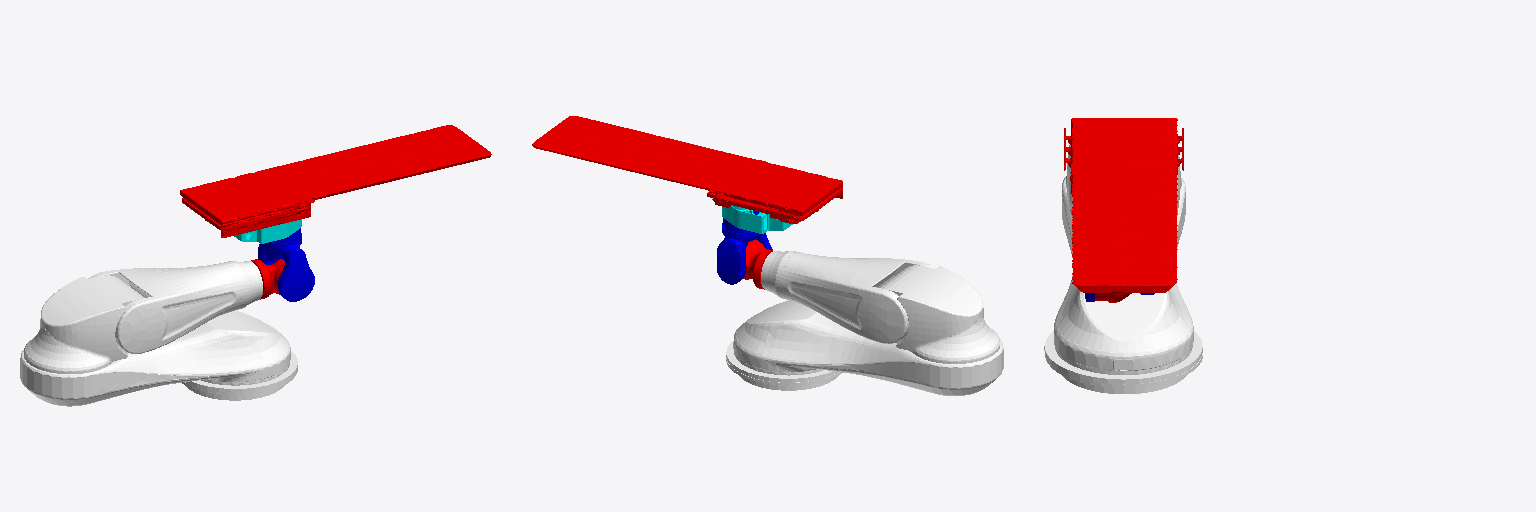
robot.urdf — test_robot:
<robot name="test_robot" xmlns:xacro="http://ros.org/wiki/xacro">

	<link name = "isocenter">
	<inertial>
      <origin rpy="0 0 0" xyz="0 0 0"/>
      <mass value="0.0"/>
      <inertia ixx="1" ixy="0" ixz="0" iyy="1" iyz="0" izz="1"/>
    </inertial>
    <visual>
      <origin rpy="0 0 0" xyz="0 0 0"/>
      <geometry>
		<box size="0.001 0.001 0.001"/>
	</geometry>
		<material name="red">
        <color rgba="1 0 0 1"/>
      </material>
    </visual>
    <!--<collision>
      <origin rpy="0 0 0" xyz="0 0 0"/>
      <geometry>
         <box size="0.001 0.001 0.001"/>
      </geometry>
    </collision>-->
  </link>

	<link name="base">
    <contact>
      <lateral_friction value="1.0"/>
      <rolling_friction value="0.0"/>
      <contact_cfm value="1.0"/>
      <contact_erp value="1.0"/>
    </contact>
    <inertial>
      <origin rpy="0 0 0"  xyz="0.000000 0 0"/>
      <mass value="292.0"/>
      <inertia ixx="1" ixy="0" ixz="0" iyy="1" iyz="0" izz="1"/>
    </inertial>
    <visual>
      <origin rpy="1.5708 0 0"  xyz="0 0 0"/>
      <geometry>
        <mesh filename="pps_leoni/pied.obj" scale="0.01 0.01 0.01"/>
      </geometry>
      <material name="white">
        <color rgba="1 1 1 1"/>
      </material>
    </visual>
	    <collision>
      <origin rpy="1.5708 0 0"  xyz="0.000000 0 0"/>
      <geometry>
         <mesh filename="pps_leoni/pied.obj" scale="0.01 0.01 0.01"/>
      </geometry>
    </collision>
  </link>

	<link name="A1">
    <contact>
		<lateral_friction value="1.0"/>
		<rolling_friction value = "101"/>
		<contact_cfm value="0.0"/>
		<contact_erp value="1.0"/>
		<kd value ="1.0"/>
	</contact>
    <inertial>
      <origin rpy="0 0 0" xyz="-0.55 0 0.3"/>
      <mass value="180"/>
      <inertia ixx="1" ixy="0" ixz="0" iyy="1" iyz="0" izz="1"/>
    </inertial>
    <visual>
      <origin rpy=" 1.5708 0 0" xyz="0 0 0"/>
      <geometry>
        <mesh filename="pps_leoni/bras1.obj" scale="0.01 0.01 0.01"/>
      </geometry>
      <material name="white">
        <color rgba="1 1 1 1"/>
      </material>
    </visual>
    <collision>
      <origin rpy="1.5708 0 0" xyz="0 0 0"/>
      <geometry>
         <mesh filename="pps_leoni/bras1.obj" scale="0.01 0.01 0.01"/>
      </geometry>
    </collision>
  </link>
	<link name="A2">
    <contact>
      <lateral_friction value="1.0"/>
      <rolling_friction value="0.0"/>
      <contact_cfm value="0.0"/>
      <contact_erp value="1.0"/>
      <kd value ="1.0"/>
    </contact>
    <inertial>
      <origin rpy="0 0 0" xyz="0.05 0 0.1935"/>
      <mass value="299"/>
      <inertia ixx="1" ixy="0" ixz="0" iyy="1" iyz="0" izz="1"/>
    </inertial>
    <visual>
     <origin rpy="1.5708 0 0" xyz="1.2 0 -0.4365"/>
      <geometry>
        <mesh filename="pps_leoni/interbras.obj" scale="0.01 0.01 0.01"/>
      </geometry>
      <material name="white">
        <color rgba="1 1 1 1"/>
      </material>
    </visual>
    <collision>
      <origin rpy="1.5708 0 0" xyz="1.2 0 -0.4365"/>
      <geometry>
         <mesh filename="pps_leoni/interbras.obj" scale="0.01 0.01 0.01"/>
      </geometry>
    </collision>
  </link>

	<link name="A3">
    <contact>
      <lateral_friction value="1.0"/>
      <rolling_friction value="0.0"/>
      <contact_cfm value="0.0"/>
      <contact_erp value="1.0"/>
      <kd value ="1.0"/>
    </contact>
    <inertial>
      <origin rpy="0 0 0" xyz="0.31129999 0 0"/>
      <mass value="193.2"/>
      <inertia ixx="1" ixy="0" ixz="0" iyy="1" iyz="0" izz="1"/>
    </inertial>
    <visual>
      <origin rpy="1.5708 0 0" xyz="0.85 0 -0.63"/>
      <geometry>
        <mesh filename="pps_leoni/BrasExtensionbras2.obj" scale="0.01 0.01 0.01"/>
      </geometry>
      <material name="white">
        <color rgba="1 1 1 1"/>
      </material>
    </visual>
    <collision>
		<origin rpy="1.5708 0 0" xyz="0.85 0 -0.63"/>
		<geometry>
			<mesh filename="pps_leoni/BrasExtensionbras2.obj" scale="0.01 0.01 0.01"/>
		</geometry>
    </collision>
  </link>

  <link name="A4">
    <contact>
      <lateral_friction value="1.0"/>
      <rolling_friction value="0.0"/>
      <contact_cfm value="0.0"/>
      <contact_erp value="1.0"/>
    </contact>
    <inertial>
      <origin rpy="0 0 0" xyz="0.1 0 0"/>
      <mass value="41.0"/>
      <inertia ixx="1" ixy="0" ixz="0" iyy="1" iyz="0" izz="1"/>
    </inertial>
    <visual>
      <origin rpy="1.57 0 0" xyz="-0.120 0 -0.63"/>
      <geometry>
        <mesh filename="pps_leoni/bras3.obj" scale="0.01 0.01 0.01"/>
      </geometry>
      <material name="red">
        <color rgba="1 0 0 1"/>
      </material>
    </visual>
    <collision>
		<origin rpy="1.57 0 0" xyz="-0.120 0 -0.63"/>
		<geometry>
			<mesh filename="pps_leoni/bras3.obj" scale="0.01 0.01 0.01"/>
		</geometry>
    </collision>
	</link>

	<link name="A5">
    <contact>
      <lateral_friction value="1.0"/>
      <rolling_friction value="0.0"/>
      <contact_cfm value="0.0"/>
      <contact_erp value="1.0"/>
    </contact>
    <inertial>
      <origin rpy="0 0 0" xyz="0 0 0.17"/>
      <mass value="41.6"/>
      <inertia ixx="1" ixy="0" ixz="0" iyy="1" iyz="0" izz="1"/>
    </inertial>
    <visual>
      <origin rpy="1.57 0 0" xyz="-0.340 0 -0.63"/>
      <geometry>
        <mesh filename="pps_leoni/bras_rot_2.obj" scale="0.01 0.01 0.01"/>
      </geometry>
      <material name="blue">
        <color rgba="0 0 1 1"/>
      </material>
    </visual>
    <collision>
		<origin rpy="1.57 0 0" xyz="-0.340 0 -0.63"/>
		<geometry>
			<mesh filename="pps_leoni/bras_rot_2.obj" scale="0.01 0.01 0.01"/>
		</geometry>
    </collision>
  </link>

	<link name="A6">
    <contact>
      <lateral_friction value="1.0"/>
      <rolling_friction value="0.0"/>
      <contact_cfm value="0.0"/>
      <contact_erp value="1.0"/>
    </contact>
    <inertial>
      <origin rpy="0 0 0" xyz="-0.17 0 0.07"/>
      <mass value="44.0"/>
      <inertia ixx="1" ixy="0" ixz="0" iyy="1" iyz="0" izz="1"/>
    </inertial>
    <visual>
      <origin rpy="1.57 0 0" xyz="-0.34 0 -0.9695"/>
      <geometry>
        <mesh filename="pps_leoni/coupler.obj" scale="0.01 0.01 0.01"/>
      </geometry>
      <material name="cyan">
        <color rgba="0 1 1 1"/>
      </material>
    </visual>
    <collision>
		<origin rpy="1.57 0 0" xyz="-0.34 0 -0.9695"/>
		<geometry>
			<mesh filename="pps_leoni/coupler.obj" scale="0.01 0.01 0.01"/>
		</geometry>
    </collision>
  </link>

 	<link name="couch">
    <contact>
      <lateral_friction value="1.0"/>
      <rolling_friction value="0.0"/>
      <contact_cfm value="0.0"/>
      <contact_erp value="1.0"/>
    </contact>
    <inertial>
      <origin rpy="0 0 0" xyz="0.6 0 1.225"/>
      <mass value="70.0"/>
      <inertia ixx="0.1" ixy="0" ixz="0" iyy="0.1" iyz="0" izz="0.1"/>
    </inertial>
    <visual>
      <origin rpy="1.5708 0 0" xyz="0 0 0"/>
      <geometry>
        <mesh filename="pps_leoni/couch.obj" scale="0.001 0.001 0.001"/>
		<!-- <box size="2 0.5 0.15"/> -->
      </geometry>
      <material name="red">
        <color rgba="1 0 0 1"/>
      </material>
    </visual>
	<collision>
		<origin rpy="1.57 0 0" xyz="0 0 0"/>
		<geometry>
			<mesh filename="pps_leoni/couch.obj" scale="0.001 0.001 0.001"/>
		</geometry>
    </collision>
  </link>

	<joint name="base" type="fixed">
	<dynamics damping="0.0" friction="0.0"/>
    <parent link="isocenter"/>
    <child link="base"/>
	<origin xyz="0.000000 -1.95 -1.10300003" rpy="0 0 0" />
	</joint>
	
	<joint name="joint0" type="continuous">
	<dynamics damping="0.0" friction="0.0"/>
    <parent link="base"/>
    <child link="A1"/>
    <origin xyz="0 0 0" rpy="0 0 0" />
    <axis xyz="0 0 1"/>
	</joint>

	<joint name="joint1" type="continuous">
	<dynamics damping="0.0" friction="0.0"/>
    <parent link="A1"/>
    <child link="A2"/>
    <origin xyz="-1.2 0 0.4365" rpy="0 0 0" />
    <axis xyz="0 0 1" />
	</joint>

	<joint name="joint2" type="continuous">
	<dynamics damping="0.0" friction="0.0"/>
    <parent link="A2"/>
    <child link="A3"/>
    <origin xyz="0.36 0 0.1935" rpy="0 0 0" />
    <axis xyz="0 -1 0" />
	</joint>

	<joint name="joint3" type="continuous">
    <parent link="A3"/>
    <child link="A4"/>
	<axis xyz="-1 0 0" />
	<origin xyz="0.980 0 0" rpy="0 0 0" />
	</joint>

	<joint name="joint4" type="continuous">
    <parent link="A4"/>
    <child link="A5"/>
	<origin xyz="0.220 0 0" rpy="0 0 0" />
	<axis xyz="0 -1 0" />
	</joint>

	<joint name="joint5" type="continuous">
    <parent link="A5"/>
    <child link="A6"/>
	<origin xyz="0 0 0.3395" rpy="0 0 0" />
	<axis xyz="0 0 1" />
	</joint>

	<joint name="joint6" type="fixed">
    <parent link="A6"/>
    <child link="couch"/>
	<origin xyz="-0.36 0 -0.9695" rpy="0 0 0" />
	</joint>

</robot>

--- Render facts (derived) ---
3 views of the same robot in one strip: view 1: azimuth 30°, elevation 25°; view 2: azimuth 150°, elevation 25°; view 3: azimuth 270°, elevation 25° (orthographic).
Model test_robot with 9 links and 8 joints (6 continuous, 2 fixed), rooted at isocenter, posed every joint at zero.
Links seen in each view (by area): view 1: couch, A1, A3, A2, A5, A6, base, A4; view 2: couch, A1, A3, A2, A5, A6, A4, base; view 3: couch, A1, base.
Link boxes in pixels (left/top/right/bottom): couch: left=180, top=125, right=491, bottom=237; A1: left=20, top=310, right=297, bottom=406; A3: left=88, top=261, right=262, bottom=353; A2: left=24, top=275, right=144, bottom=373; A5: left=258, top=228, right=314, bottom=301; A6: left=234, top=219, right=301, bottom=243; base: left=182, top=369, right=297, bottom=400; A4: left=251, top=259, right=284, bottom=299; couch: left=532, top=116, right=842, bottom=223; A1: left=726, top=300, right=1003, bottom=395; A3: left=761, top=251, right=935, bottom=343; A2: left=879, top=265, right=999, bottom=363; A5: left=717, top=211, right=772, bottom=284; A6: left=722, top=205, right=792, bottom=233; A4: left=743, top=239, right=772, bottom=289; base: left=726, top=358, right=842, bottom=390; couch: left=1064, top=118, right=1183, bottom=292; A1: left=1044, top=177, right=1202, bottom=384; base: left=1045, top=353, right=1202, bottom=393.
Bounding box of the posed robot: 3.24 × 2.35 × 1.26 m (x, y, z).
8 mesh visuals loaded from 8 distinct referenced files (8 OBJ).
